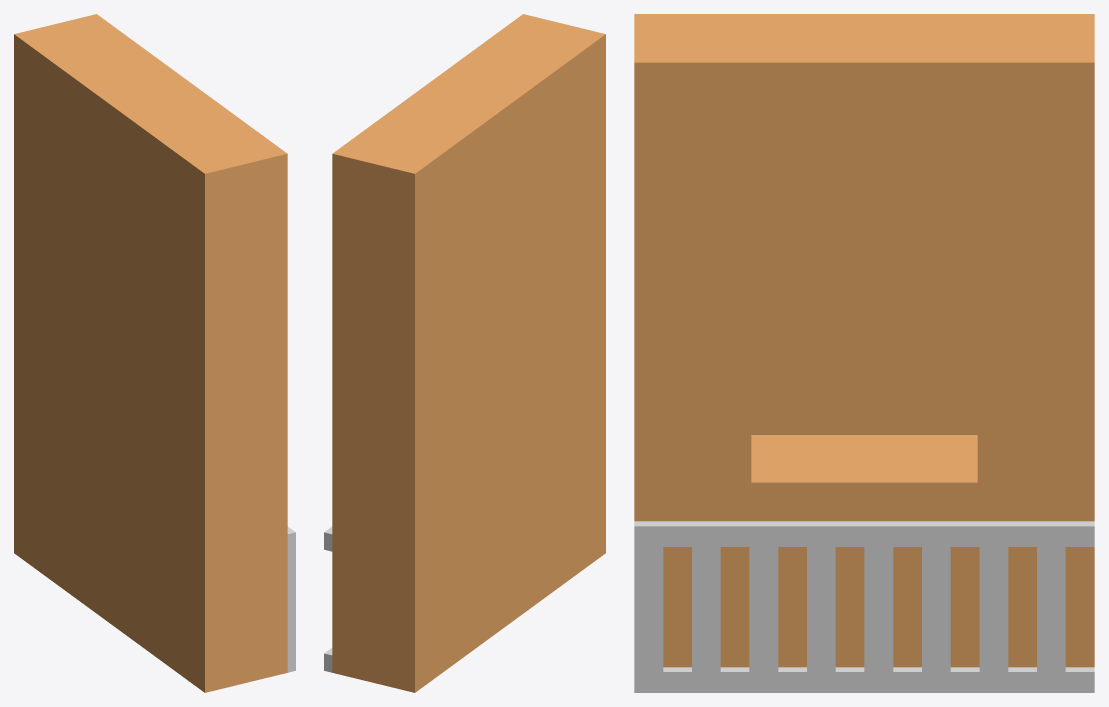
File: sushi_wall3x2_b_3.fbx
The picture shows the model from 3 angles, left to right: view 1: azimuth 30°, elevation 25°; view 2: azimuth 150°, elevation 25°; view 3: azimuth 270°, elevation 25°; orthographic projection. The views are drawn at different scales.
Parts seen in each view (by area): view 1: Cube; view 2: Cube; view 3: Cube.
Part boxes in pixels (x1,y1,x2,y2): Cube: [14, 14, 295, 692]; Cube: [324, 14, 605, 692]; Cube: [634, 14, 1094, 692].
Bounding box in the file's own units: 0.55 × 3 × 2.
